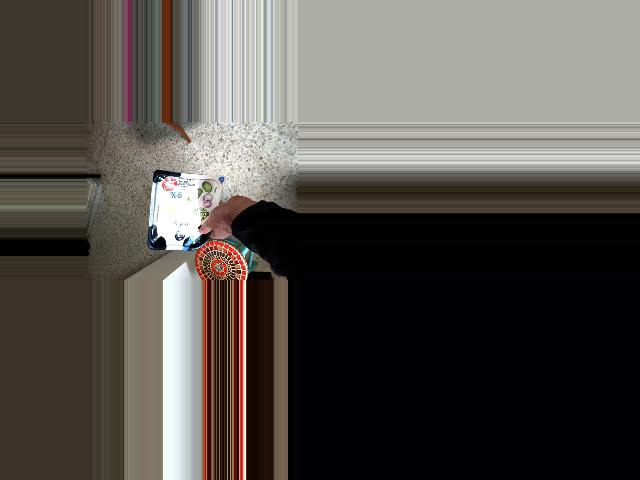cheese: (163, 172, 250, 251)
